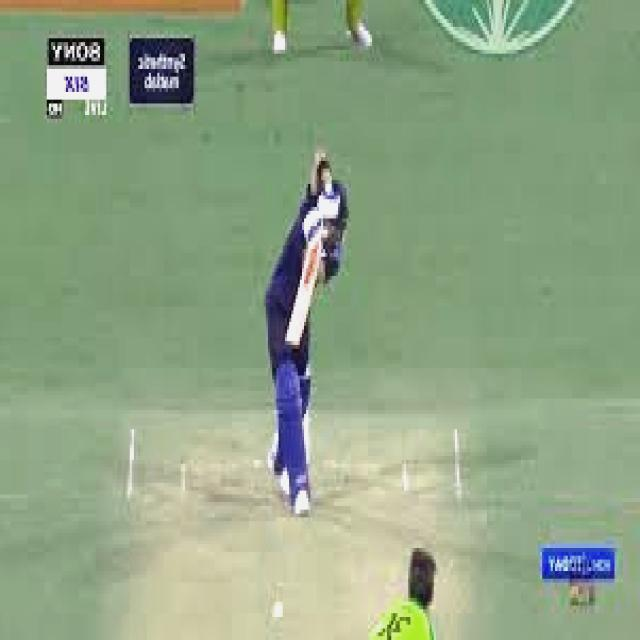bat: (279, 230, 327, 357)
toe: (281, 336, 305, 346)
